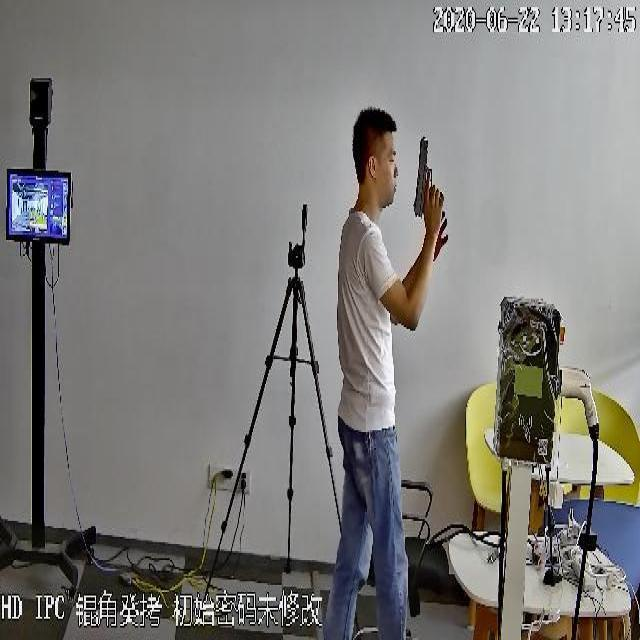pistol: (333, 105, 441, 630)
